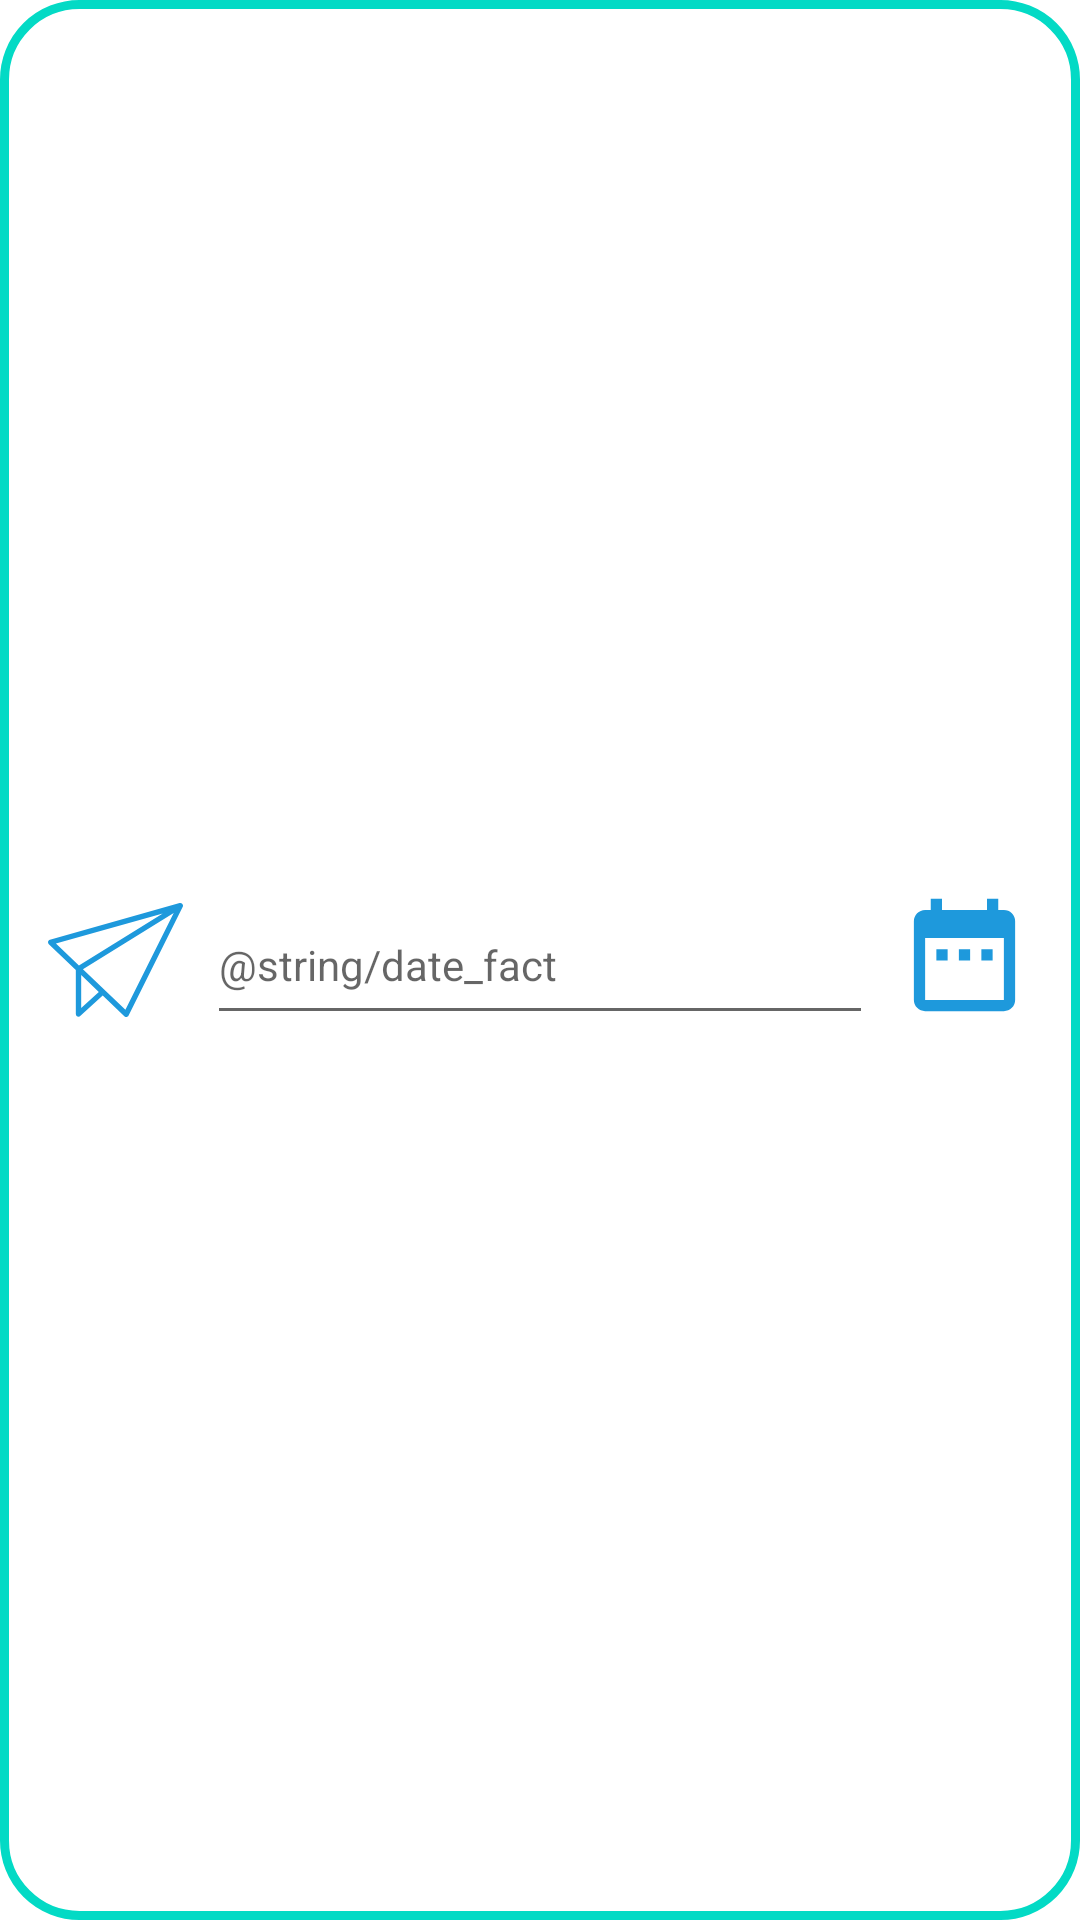

Icons on this 1080x1920 Android screen, each with the point to tap as (x=x, y=y):
calendar range: (x=964, y=955)
paper plane: (x=115, y=960)
